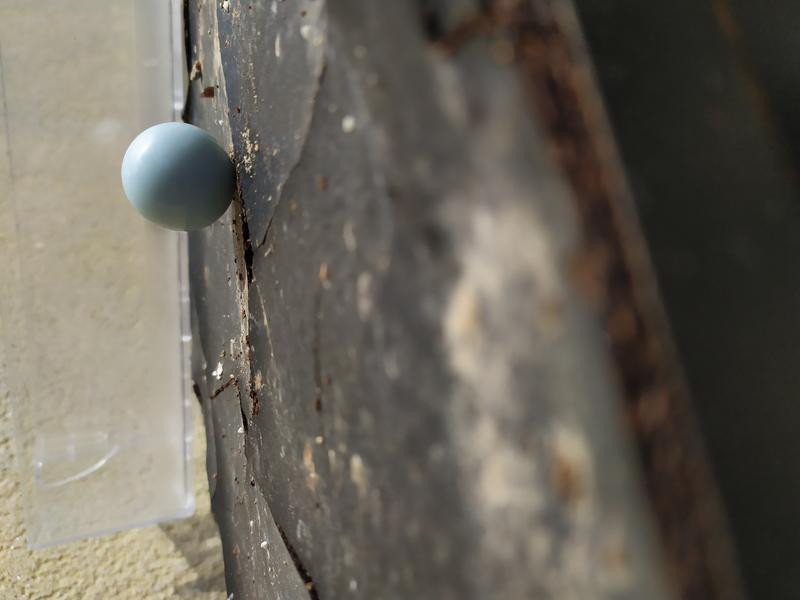Warning: (118, 119, 238, 234)
